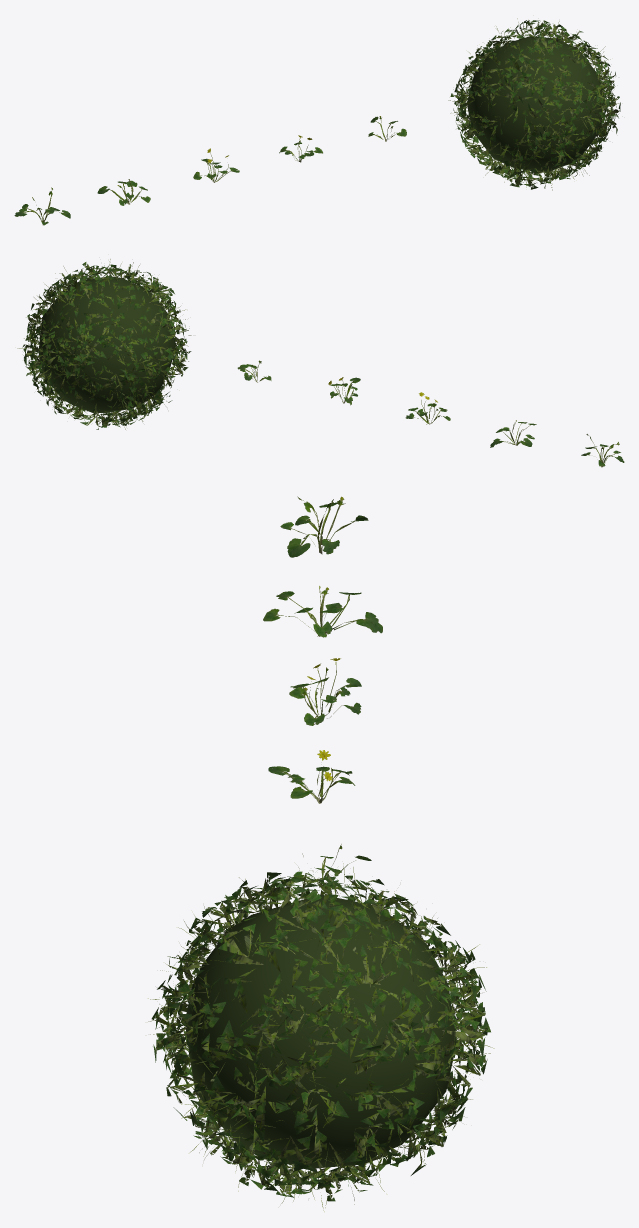
File: celandine_01.glb
3 renders of one model, top to bottom at view 1: azimuth 30°, elevation 25°; view 2: azimuth 150°, elevation 25°; view 3: azimuth 270°, elevation 25°, orthographic. The views are drawn at different scales.
Visible parts, largest first — view 1: celandine_01_a_LOD0, celandine_01_geometry_nodes; view 2: celandine_01_a_LOD0, celandine_01_geometry_nodes; view 3: celandine_01_a_LOD0, celandine_01_geometry_nodes.
Boxes of the visible parts, left/top/right/bottom form: celandine_01_a_LOD0: left=14, top=18, right=620, bottom=225; celandine_01_geometry_nodes: left=467, top=36, right=604, bottom=171; celandine_01_a_LOD0: left=17, top=259, right=624, bottom=467; celandine_01_geometry_nodes: left=38, top=276, right=175, bottom=413; celandine_01_a_LOD0: left=148, top=496, right=494, bottom=1211; celandine_01_geometry_nodes: left=185, top=894, right=455, bottom=1168.
Size of the model in its own units: 3.49 by 0.9136 by 0.8906.
Materials: 2 (1 with a texture image).
